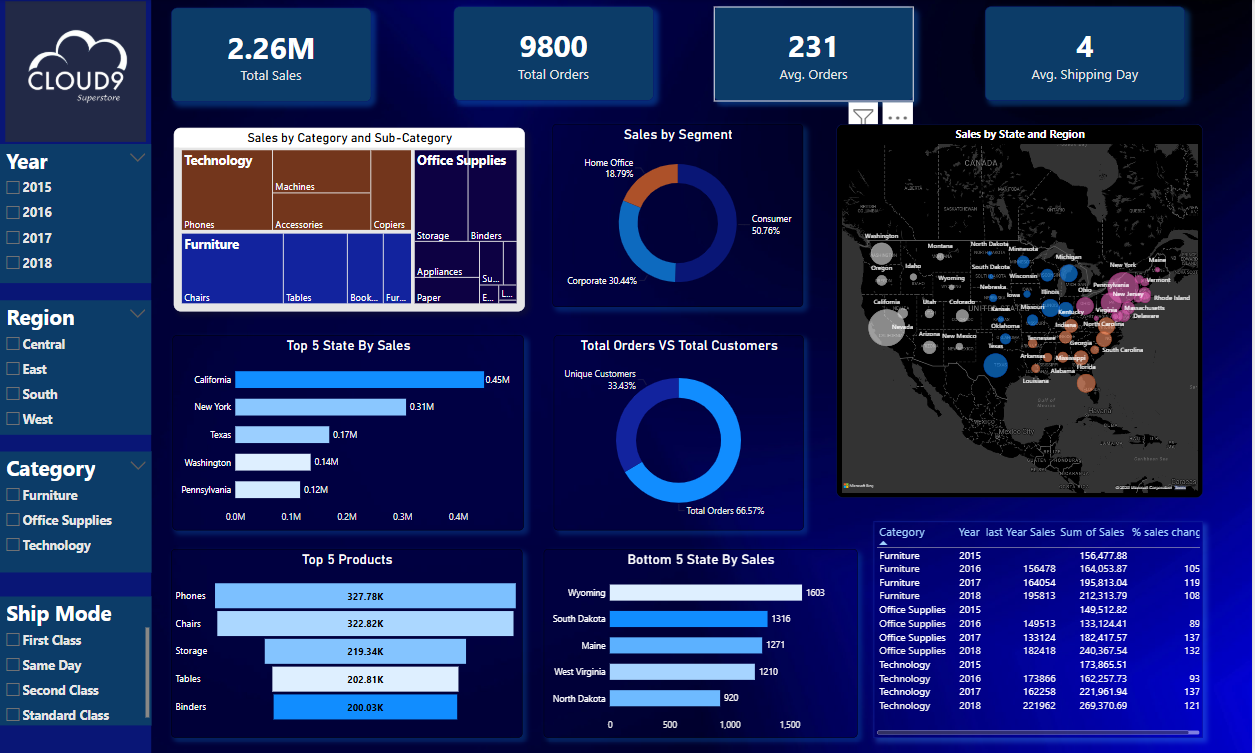

What the dashboard file says about the page in this screenshot:
{"tool":"powerbi","page":{"name":"Page 1","canvas":[2650,1600],"ordinal":0},"visuals":[{"type":"shape","box":[0,0,320.1,1600.5],"z":0},{"type":"image","box":[0,0,320,307.4],"z":1000},{"type":"card","fields":{"Values":["Superstore.Total Sales"]},"box":[362.8,17.6,423.2,199],"z":2000},{"type":"card","fields":{"Values":["Superstore.Total Orders"]},"box":[960.2,17,423.3,198.9],"z":3000},{"type":"card","fields":{"Values":["Superstore.Avg. Orders"]},"box":[1511.4,17,423.3,198.9],"z":4000},{"type":"card","fields":{"Values":["Superstore.Avg. Shipping Day"]},"box":[2085.2,17,423.3,198.9],"z":5000},{"type":"slicer","fields":{"Values":["Date Table.Year"]},"box":[0,307.4,320,294.8],"z":6000},{"type":"slicer","fields":{"Values":["Superstore.Region"]},"box":[0,632.3,320,284.7],"z":7000},{"type":"slicer","fields":{"Values":["Superstore.Category"]},"box":[0,957.4,321,255.7],"z":8000},{"type":"slicer","fields":{"Values":["Superstore.Ship Mode"]},"box":[0,1264.2,321,272.7],"z":9000},{"type":"treemap","title":"Sales by Category and Sub-Category","fields":{"Group":["Superstore.Category"],"Details":["Superstore.Sub-Category"],"Values":["Sum(Superstore.Sales)"]},"box":[367.7,272.5,743.4,388.9],"z":10000},{"type":"map","title":"Sales by State and Region","fields":{"Category":["Superstore.State"],"Size":["Sum(Superstore.Sales)"],"Series":["Superstore.Region"]},"box":[1770.8,265.4,776.3,791.2],"z":11000},{"type":"donutChart","title":"Sales by Segment","fields":{"Category":["Superstore.Segment"],"Y":["Sum(Superstore.Sales)"]},"box":[1168.2,265.4,530.8,386.9],"z":12000},{"type":"donutChart","title":"Total Orders VS Total Customers","fields":{"Y":["Superstore.Total Orders","Superstore.Customers"]},"box":[1172,711.6,529.1,412.7],"z":13000},{"type":"barChart","title":"Top 5 State By Sales","fields":{"Category":["Superstore.State"],"Y":["Sum(Superstore.Sales)"]},"box":[365.1,711.6,743.4,412.7],"z":14000},{"type":"funnel","title":"Top 5 Products","fields":{"Category":["Superstore.Sub-Category"],"Y":["Sum(Superstore.Sales)"]},"box":[362.4,1164,743.4,399.5],"z":15000},{"type":"tableEx","fields":{"Values":["Superstore.Category","Date Table.Year","Sum(Superstore.Sales)","Superstore.last Year Sales","Superstore.perct of sales change"]},"box":[1849.2,1105.8,695.8,457.7],"z":16000},{"type":"barChart","title":"Bottom 5 State By Sales","fields":{"Category":["Superstore.State"],"Y":["Sum(Superstore.Sales)"]},"box":[1150.8,1164,664,399.5],"z":17000}]}

Visuals, with their boxes in screenshot pixels (x1, y1, x2, y2), scaled from the page's 2650x1600 canvas onto the 1255x753 screenshot:
shape: 0/0/152/752
image: 0/0/152/145
card - Superstore.Total Sales: 172/8/372/102
card - Superstore.Total Orders: 455/8/655/102
card - Superstore.Avg. Orders: 716/8/916/102
card - Superstore.Avg. Shipping Day: 988/8/1188/102
slicer - Date Table.Year: 0/145/152/283
slicer - Superstore.Region: 0/298/152/432
slicer - Superstore.Category: 0/451/152/571
slicer - Superstore.Ship Mode: 0/595/152/723
"Sales by Category and Sub-Category" treemap: 174/128/526/311
"Sales by State and Region" map: 839/125/1206/497
"Sales by Segment" donutChart: 553/125/805/307
"Total Orders VS Total Customers" donutChart: 555/335/806/529
"Top 5 State By Sales" barChart: 173/335/525/529
"Top 5 Products" funnel: 172/548/524/736
tableEx - Superstore.Category x Date Table.Year: 876/520/1205/736
"Bottom 5 State By Sales" barChart: 545/548/859/736
